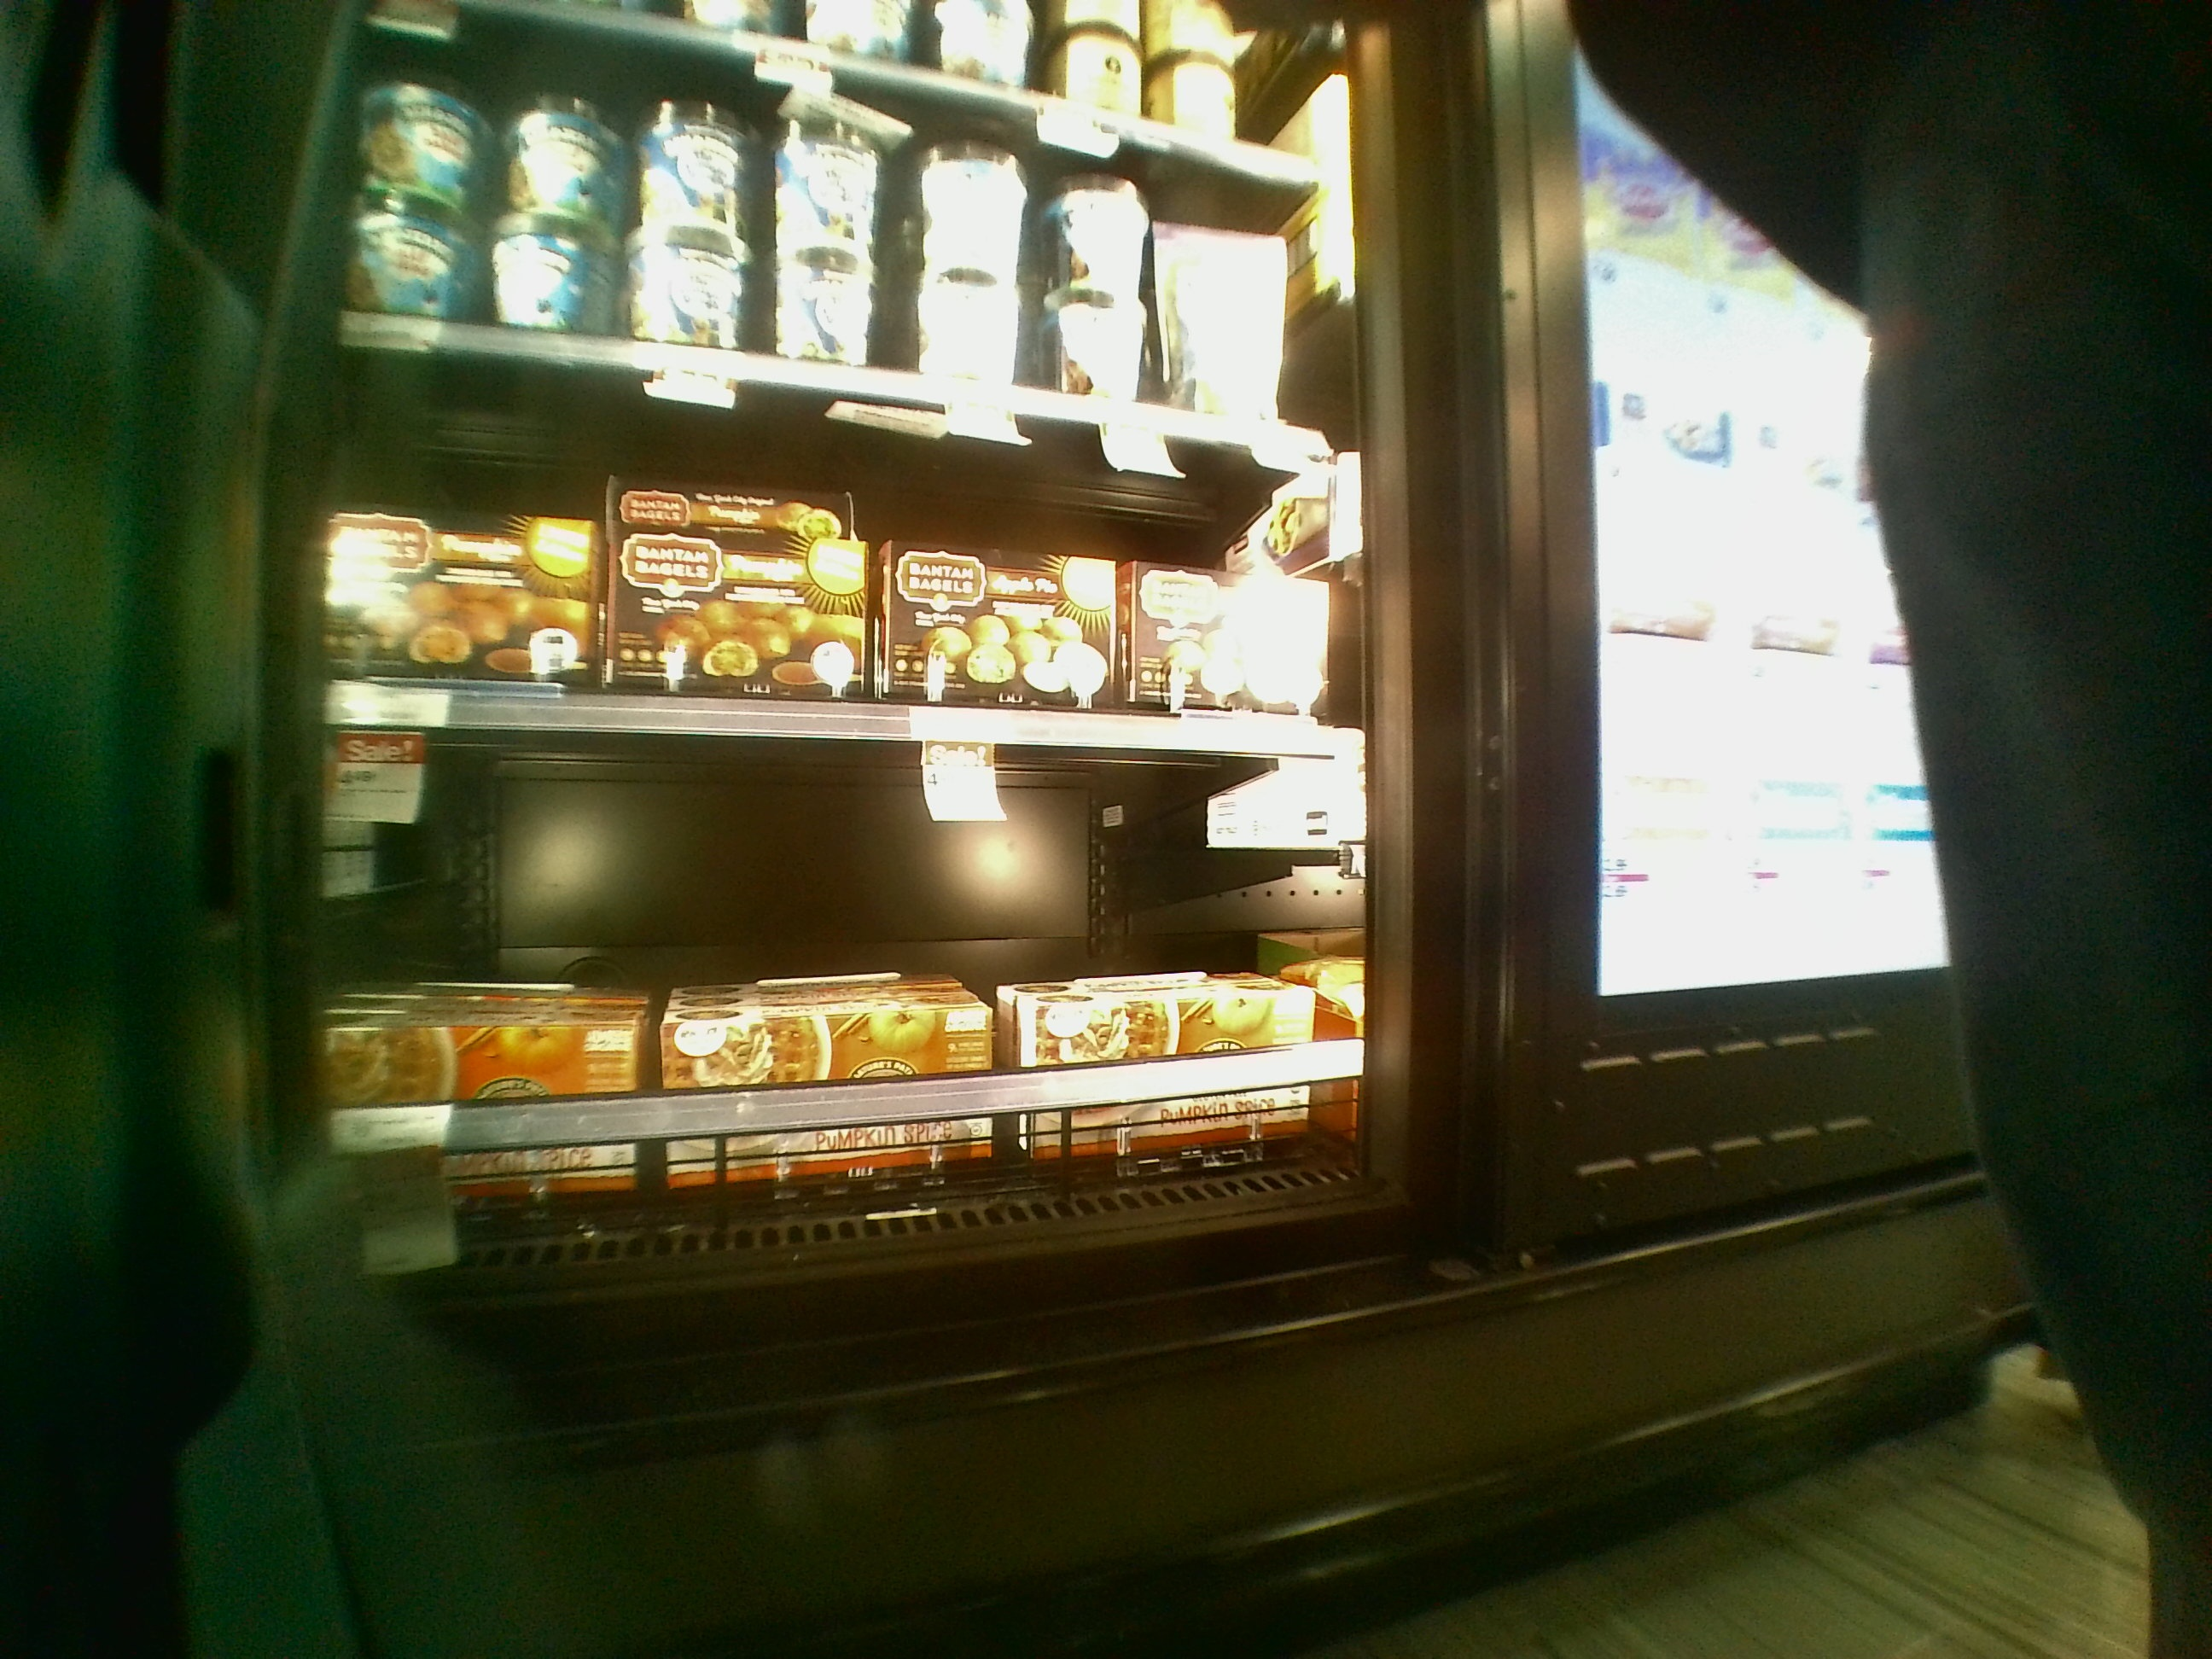shelf: (291, 695, 1388, 1256), (308, 331, 1343, 755)
